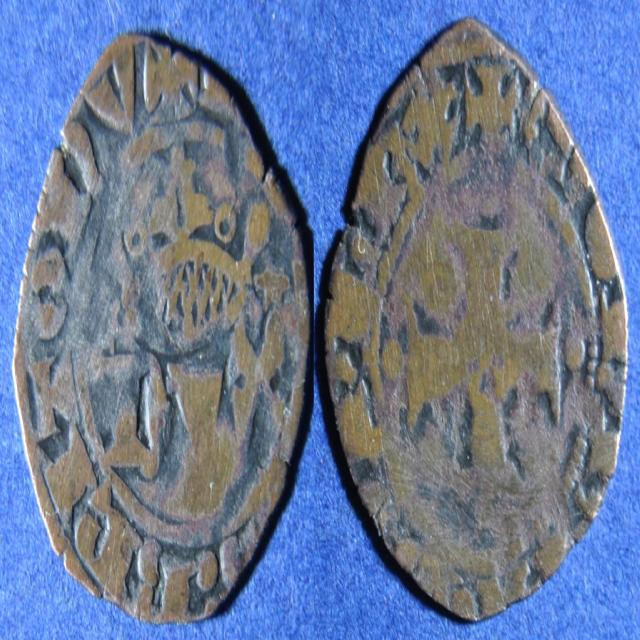Coin: (320, 16, 630, 622), (12, 29, 310, 622)
